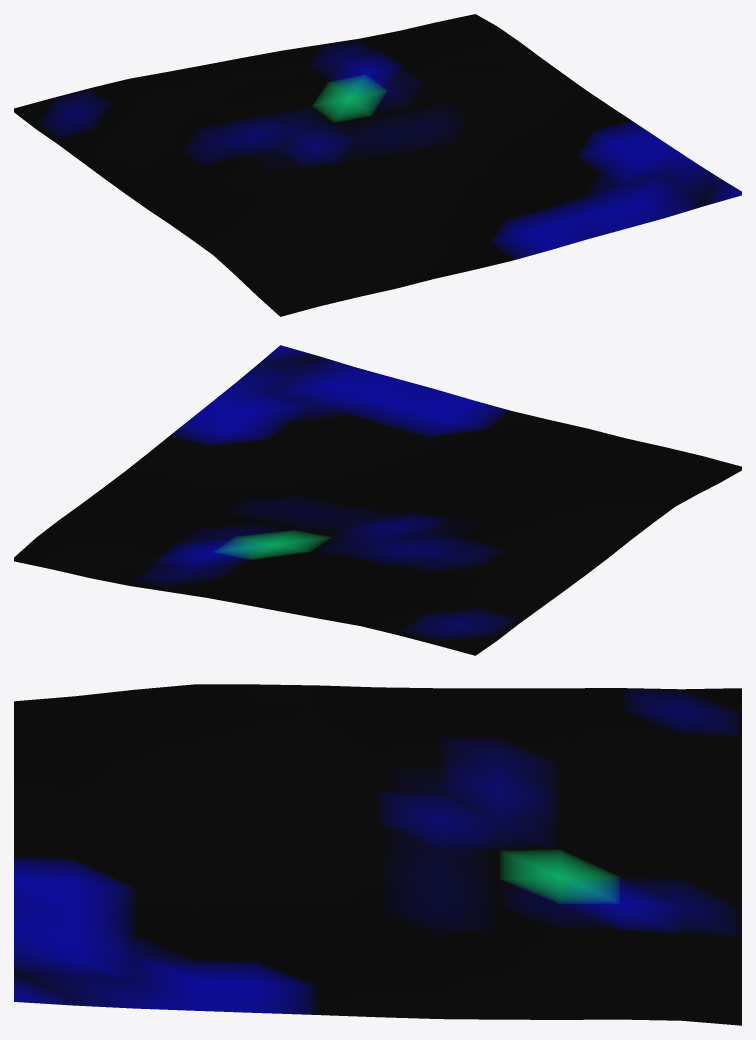
The model's file is coast_21_1.glb.
3 views of the same model, one above another, from view 1: azimuth 30°, elevation 25°; view 2: azimuth 150°, elevation 25°; view 3: azimuth 270°, elevation 25° (orthographic). The views are drawn at different scales.
Visible parts, largest first — view 1: terrain; view 2: terrain; view 3: terrain.
Boxes of the visible parts, bbox=[...] form: terrain: bbox=[14, 14, 741, 316]; terrain: bbox=[14, 345, 741, 655]; terrain: bbox=[14, 684, 741, 1025].
Bounding box in the file's own units: 192 × 10.16 × 192.
